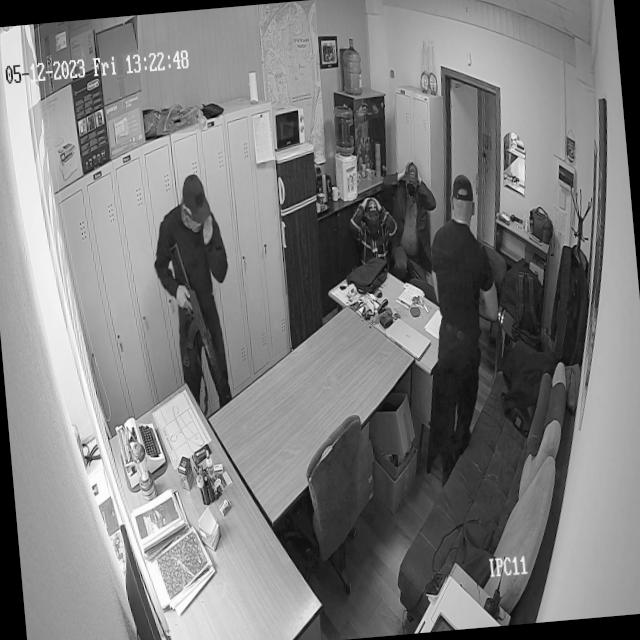gun: (168, 236, 226, 396)
person: (422, 167, 506, 399), (382, 156, 442, 276), (346, 190, 401, 260)
person with a gun: (145, 169, 238, 395)
